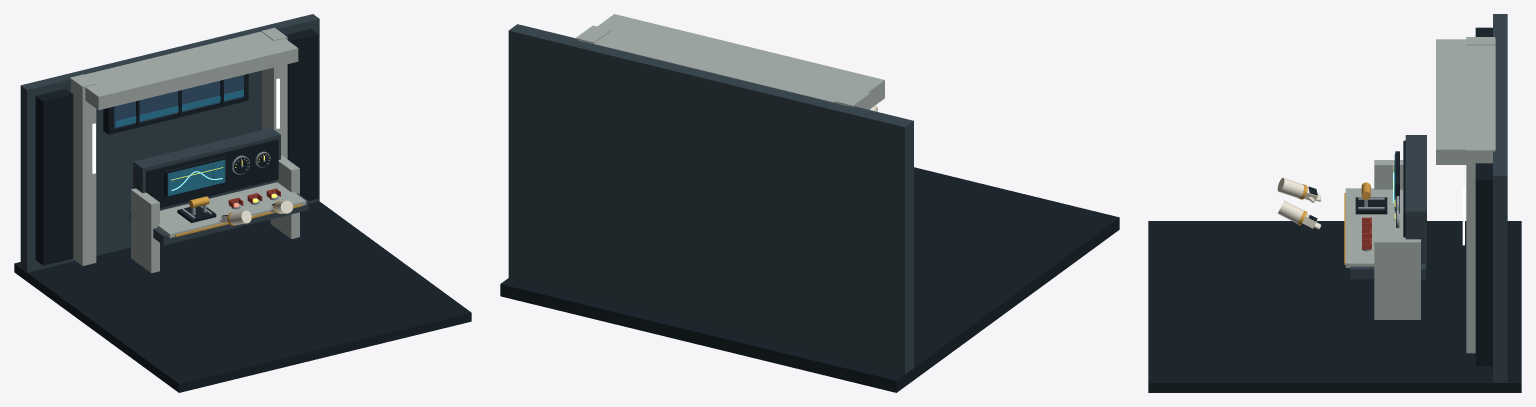
Rendered from 05-launch.glb.
The picture shows the model from 3 angles, left to right: view 1: azimuth 30°, elevation 25°; view 2: azimuth 150°, elevation 25°; view 3: azimuth 270°, elevation 25°; orthographic projection. The views are drawn at different scales.
Visible parts, largest first — view 1: floor, aft-bulkhead, wall-recess (×2), ceiling-bulkhead, column (×2), side-console (×2), instrument-face, control-surface, instrument-housing, outside-color, glass, window-frame (+3 smaller); view 2: aft-bulkhead, floor, ceiling-bulkhead; view 3: floor, ceiling-bulkhead, aft-bulkhead, side-console (×2), wall-recess, control-surface, column, instrument-housing, sleeve (×2), track, center-desk.
Part boxes in pixels (x1,y1,x2,y2): floor: (14, 201, 471, 392); aft-bulkhead: (20, 14, 319, 272); wall-recess (×2): (35, 29, 318, 265); ceiling-bulkhead: (84, 31, 298, 110); column (×2): (70, 27, 287, 265); side-console (×2): (131, 155, 299, 273); instrument-face: (146, 139, 278, 208); control-surface: (157, 182, 306, 237); instrument-housing: (133, 128, 280, 210); outside-color: (114, 75, 243, 128); glass: (168, 159, 225, 196); window-frame: (103, 74, 248, 134); aft-bulkhead: (508, 24, 913, 374); floor: (500, 167, 1119, 392); ceiling-bulkhead: (578, 14, 884, 108); floor: (1148, 221, 1521, 392); ceiling-bulkhead: (1436, 39, 1495, 164); aft-bulkhead: (1493, 14, 1507, 382); side-console (×2): (1374, 160, 1420, 319); wall-recess: (1475, 163, 1492, 366); control-surface: (1345, 188, 1403, 267); column: (1466, 142, 1495, 353); instrument-housing: (1405, 135, 1426, 263); sleeve (×2): (1277, 178, 1304, 223); track: (1355, 197, 1387, 214); center-desk: (1350, 264, 1425, 279).
Size of the model in its own units: 4.1 by 2.58 by 4.
